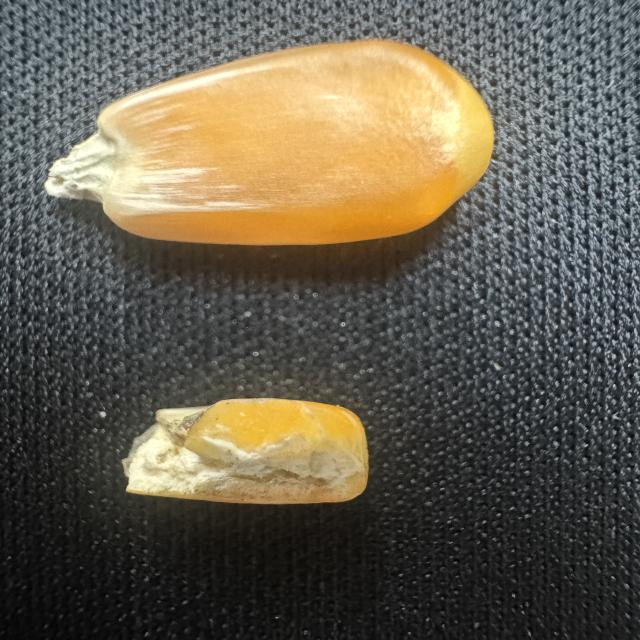Bad-Seed: (100, 384, 379, 524)
Good-Seed: (38, 28, 499, 264)
